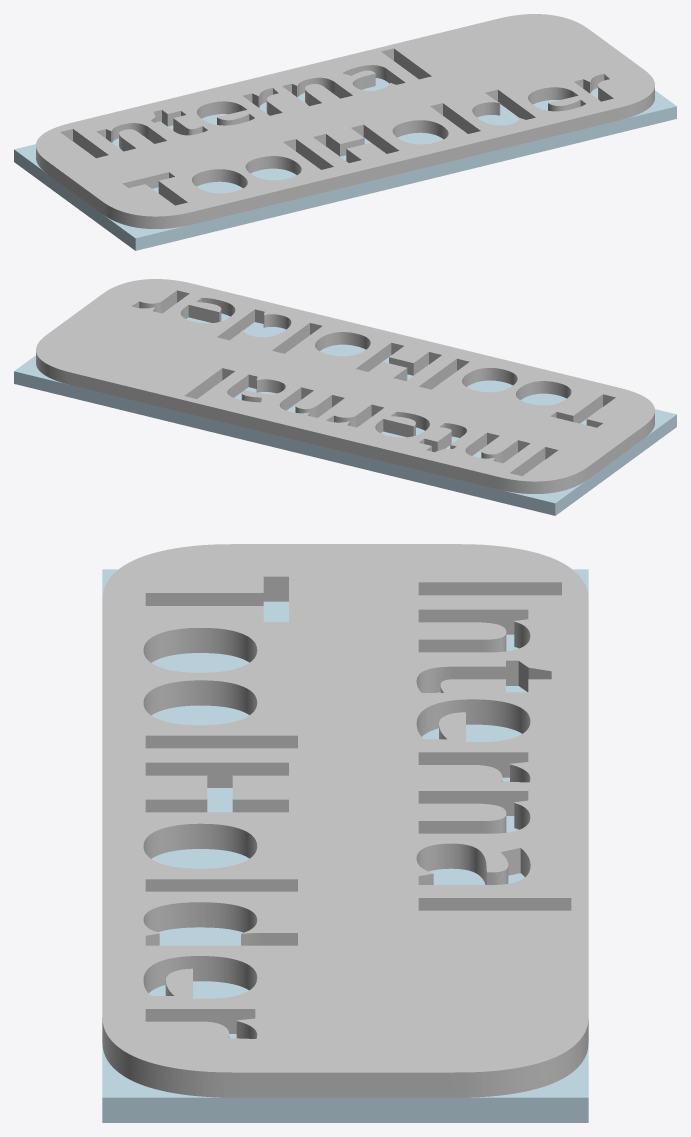
File: Internal Tool holder.fbx
3 renders of one model, top to bottom at view 1: azimuth 30°, elevation 25°; view 2: azimuth 150°, elevation 25°; view 3: azimuth 270°, elevation 25°, orthographic. The views are drawn at different scales.
Parts seen in each view (by area): view 1: imagetostl_mesh0, imagetostl_mesh1; view 2: imagetostl_mesh0, imagetostl_mesh1; view 3: imagetostl_mesh0, imagetostl_mesh1.
Part boxes in pixels (box(x1,y1,x2,y2)): imagetostl_mesh0: box(36, 14, 654, 228); imagetostl_mesh1: box(14, 78, 676, 250); imagetostl_mesh0: box(36, 279, 654, 493); imagetostl_mesh1: box(14, 313, 676, 515); imagetostl_mesh0: box(102, 544, 588, 1097); imagetostl_mesh1: box(102, 569, 588, 1122).
Bounding box in the file's own units: 9000 × 400 × 3500.
